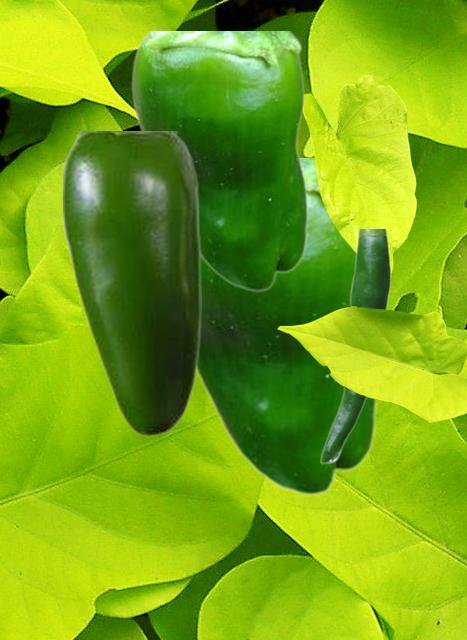green_chili: (197, 158, 376, 495), (130, 31, 307, 291), (63, 131, 200, 436), (319, 229, 389, 463)
